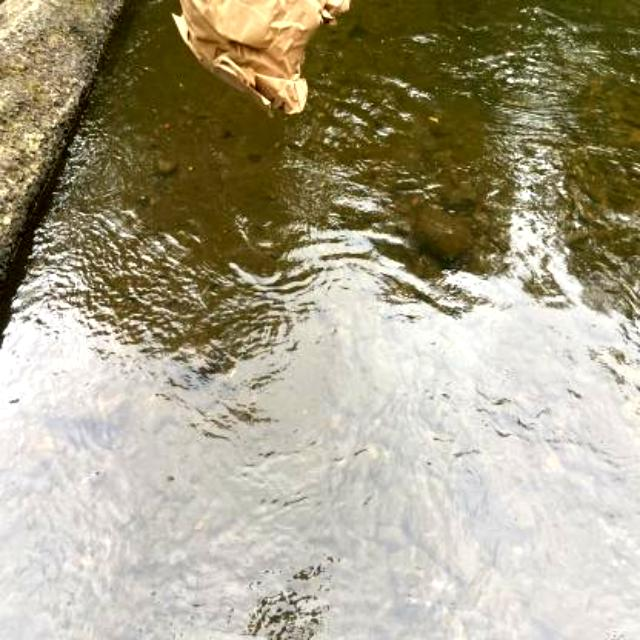Paper: (169, 0, 362, 128)
